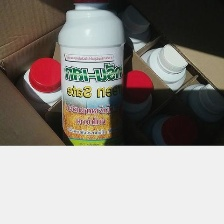insecticide: (58, 0, 126, 159), (87, 1, 156, 89), (3, 53, 70, 131), (102, 64, 161, 144), (126, 40, 192, 110), (168, 77, 223, 137), (137, 110, 197, 163)
